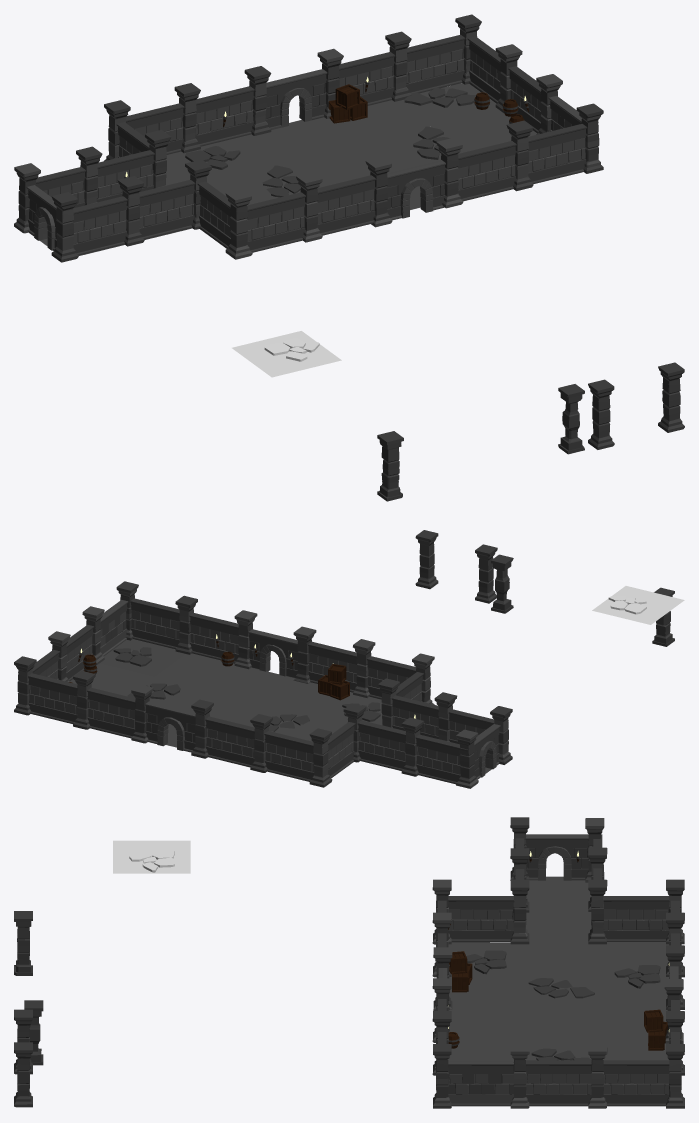
File: Modular assets lecture 3.fbx
3 renders of one model, top to bottom at view 1: azimuth 30°, elevation 25°; view 2: azimuth 150°, elevation 25°; view 3: azimuth 270°, elevation 25°, orthographic. The views are drawn at different scales.
Visible parts, largest first — view 1: Plane.002, Plane.005, Plane.013, Pillar 3.011, Pillar 3.002, Pillar 3.019, Pillar 3.001, Pillar 3.010, Pillar 3.009, Pillar 3.018, Plane.009, Pillar 3.007 (+20 smaller); view 2: Plane.007, Pillar 3.009, Pillar 3.012, Pillar 3.001, Pillar 3.007, Plane.005, Pillar 3.008, Pillar 3.002, Plane.001, Pillar 3.017, Pillar 3.013, Plane.009 (+20 smaller); view 3: Plane.006, Plane.005, Pillar 3.004, Pillar 3.015, Pillar 3.003, Pillar 3.014, Plane.002, Plane.007, Pillar 3.016, Plane.011, Plane.008, Plane.004 (+20 smaller).
Boxes of the visible parts, left/top/right/bottom form: Plane.002: left=225, top=100, right=433, bottom=167; Plane.005: left=293, top=126, right=468, bottom=185; Plane.013: left=400, top=83, right=536, bottom=151; Pillar 3.011: left=225, top=189, right=305, bottom=259; Pillar 3.002: left=436, top=138, right=516, bottom=208; Pillar 3.019: left=51, top=192, right=127, bottom=262; Pillar 3.001: left=506, top=120, right=586, bottom=191; Pillar 3.010: left=296, top=172, right=375, bottom=242; Pillar 3.009: left=195, top=66, right=271, bottom=146; Pillar 3.018: left=117, top=176, right=195, bottom=246; Plane.009: left=365, top=156, right=445, bottom=227; Pillar 3.007: left=406, top=14, right=481, bottom=93; Plane.007: left=155, top=653, right=304, bottom=705; Pillar 3.009: left=191, top=699, right=254, bottom=767; Pillar 3.012: left=250, top=714, right=314, bottom=781; Pillar 3.001: left=130, top=595, right=197, bottom=654; Pillar 3.007: left=14, top=656, right=77, bottom=723; Plane.005: left=127, top=677, right=273, bottom=725; Pillar 3.008: left=73, top=670, right=135, bottom=738; Pillar 3.002: left=189, top=610, right=257, bottom=669; Plane.001: left=131, top=684, right=195, bottom=752; Pillar 3.017: left=401, top=717, right=467, bottom=784; Pillar 3.013: left=343, top=703, right=405, bottom=770; Plane.009: left=248, top=626, right=316, bottom=683; Plane.006: left=448, top=876, right=598, bottom=974; Plane.005: left=522, top=1003, right=599, bottom=1060; Pillar 3.004: left=510, top=1044, right=591, bottom=1108; Pillar 3.015: left=588, top=1044, right=669, bottom=1108; Pillar 3.003: left=433, top=1044, right=513, bottom=1108; Pillar 3.014: left=448, top=879, right=529, bottom=944; Plane.002: left=600, top=989, right=668, bottom=1060; Plane.007: left=448, top=1003, right=522, bottom=1060; Pillar 3.016: left=603, top=879, right=684, bottom=944; Plane.011: left=449, top=975, right=599, bottom=1003; Plane.008: left=598, top=942, right=669, bottom=989; Plane.004: left=524, top=818, right=604, bottom=882.
Size of the model in its own units: 3573 by 865 by 4319.
